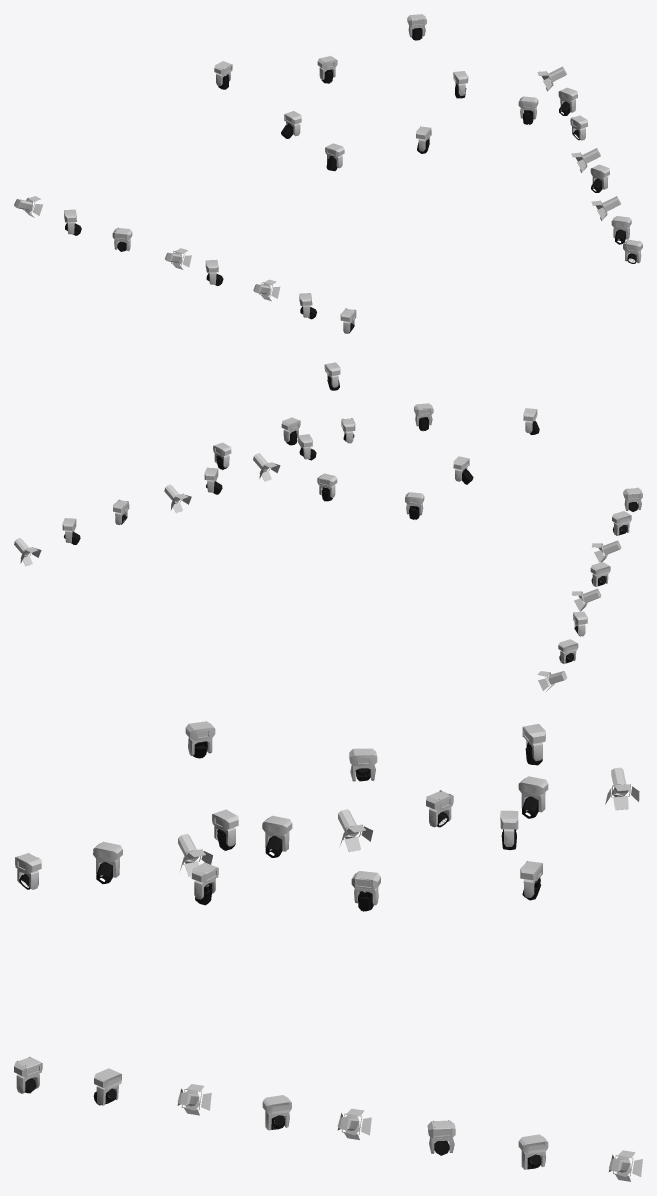
Rendered from Lights.fbx.
3 views of the same model, one above another, from view 1: azimuth 30°, elevation 25°; view 2: azimuth 150°, elevation 25°; view 3: azimuth 270°, elevation 25° (orthographic). The views are drawn at different scales.
Parts seen in each view (by area): view 1: Lights; view 2: Lights; view 3: Lights.
Boxes of the visible parts, bbox=[...] form: Lights: bbox=[14, 14, 642, 333]; Lights: bbox=[14, 362, 642, 691]; Lights: bbox=[14, 721, 642, 1181].
Size of the model in its own units: 1498 by 352 by 1005.
